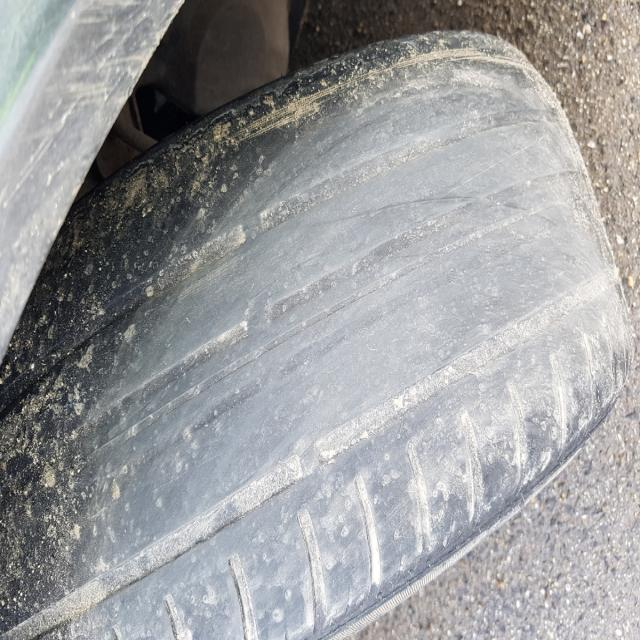Flat spots: (80, 196, 575, 460)
